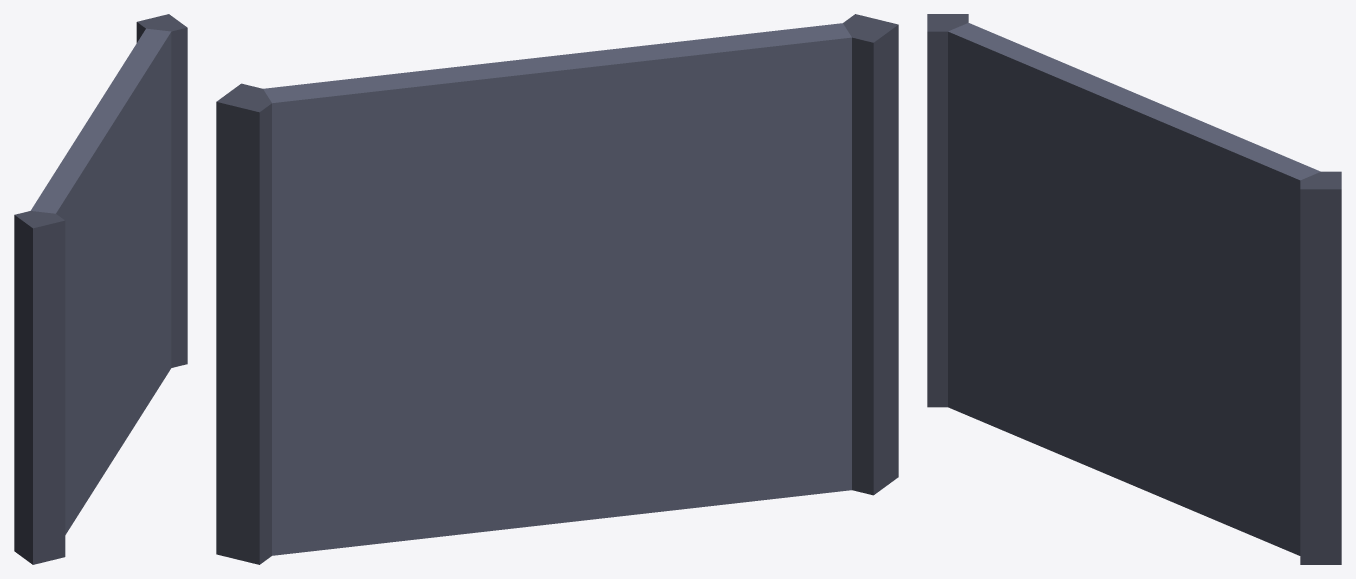
The model's file is wall-wood-diagonal.glb.
3 renders of one model, left to right at view 1: azimuth 30°, elevation 25°; view 2: azimuth 150°, elevation 25°; view 3: azimuth 270°, elevation 25°, orthographic. The views are drawn at different scales.
Parts seen in each view (by area): view 1: wall-wood-diagonal; view 2: wall-wood-diagonal; view 3: wall-wood-diagonal.
Part boxes in pixels (bbox=[...]): wall-wood-diagonal: bbox=[14, 14, 187, 564]; wall-wood-diagonal: bbox=[216, 14, 898, 564]; wall-wood-diagonal: bbox=[927, 14, 1341, 564].
Size of the model in its own units: 1 by 1 by 1.
1 material, 1 textured.
